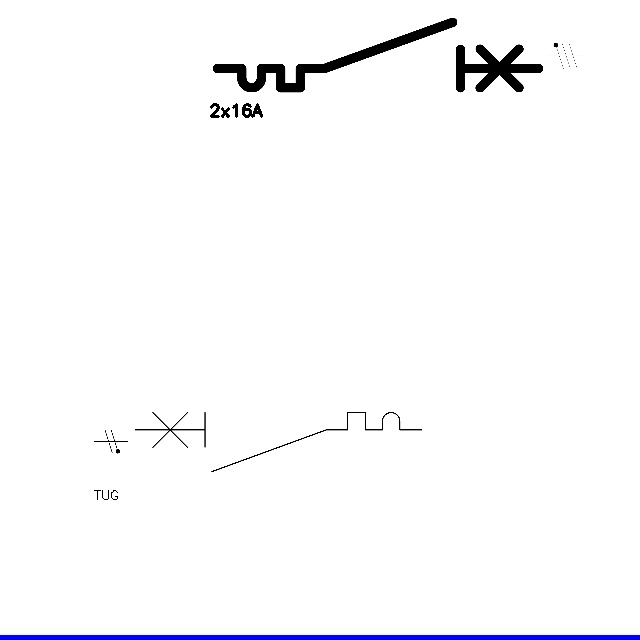interruptor_termomagnetico: (209, 14, 547, 96), (128, 405, 429, 478)
